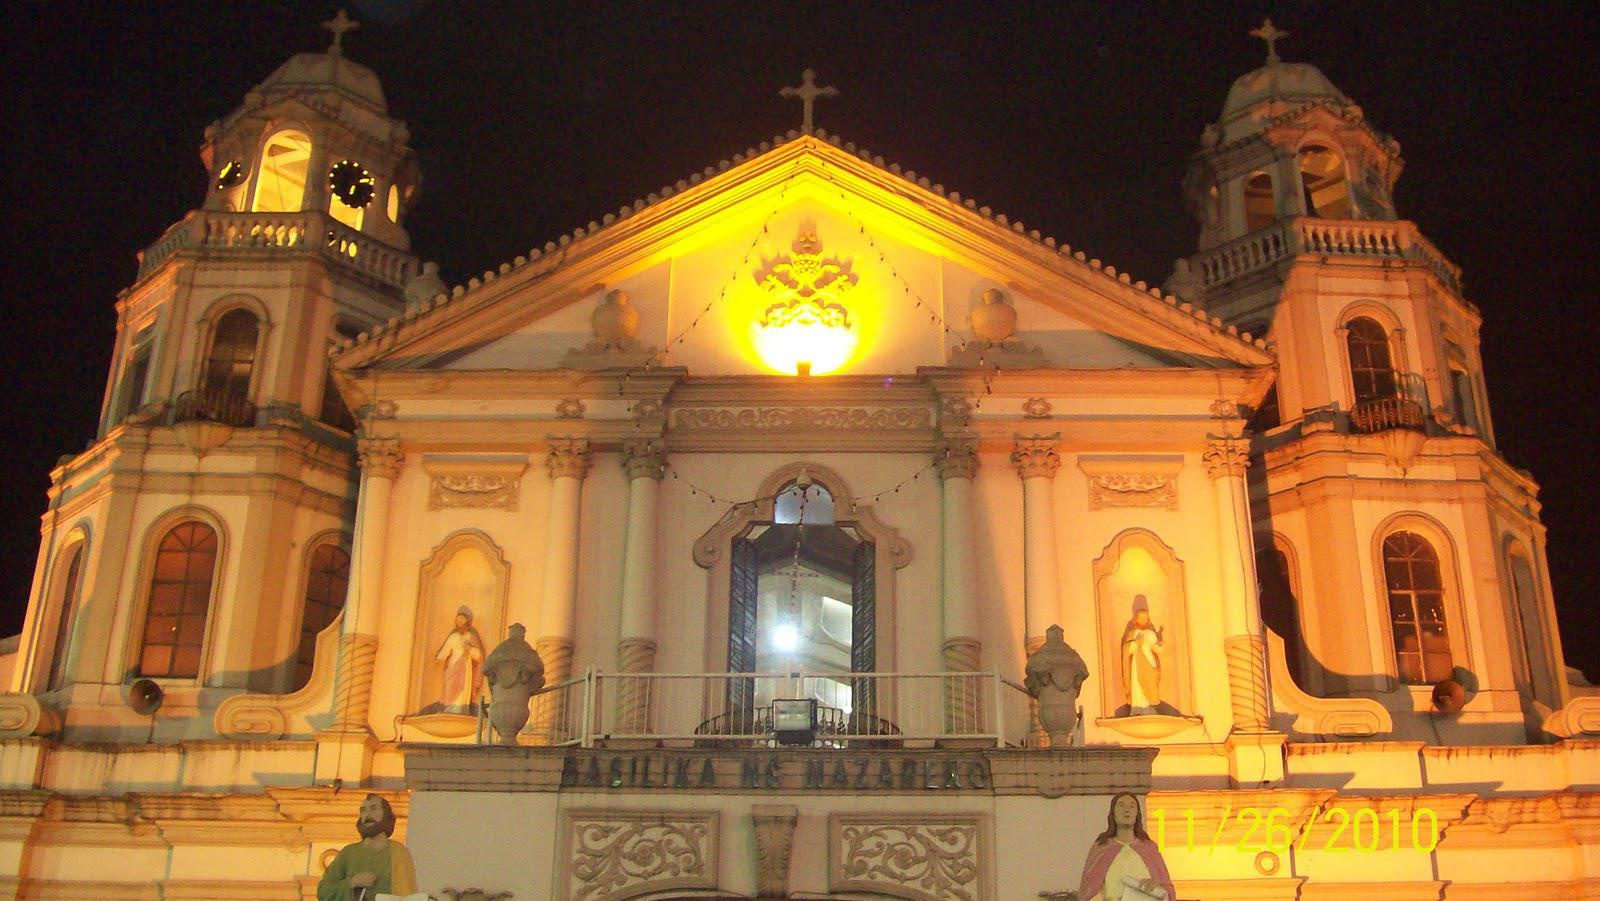quiapo_church_quiapo_manila: (10, 8, 1574, 901)
